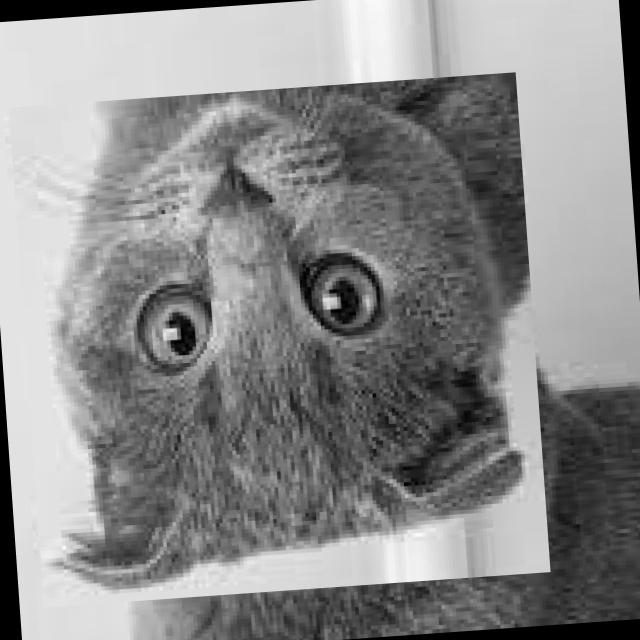scootish: (8, 72, 550, 607)
